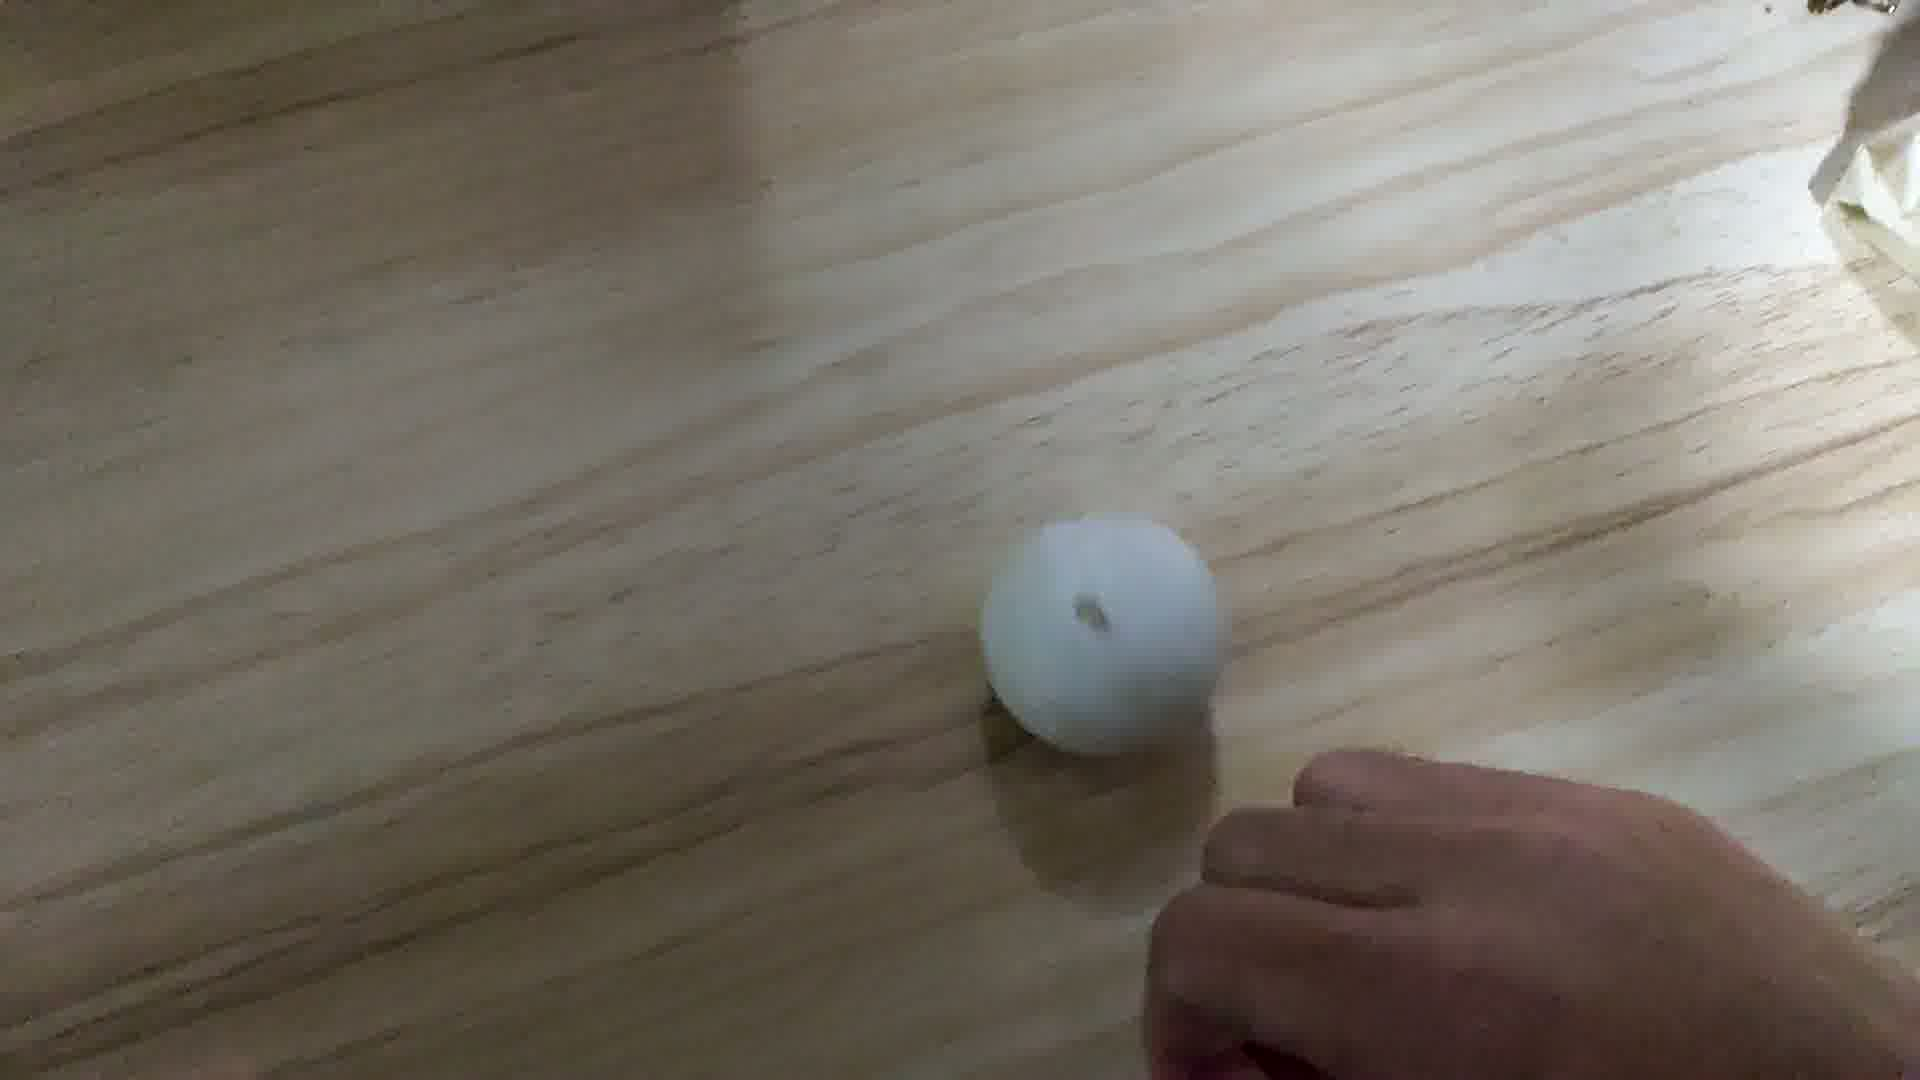Ball: (982, 513, 1222, 756)
